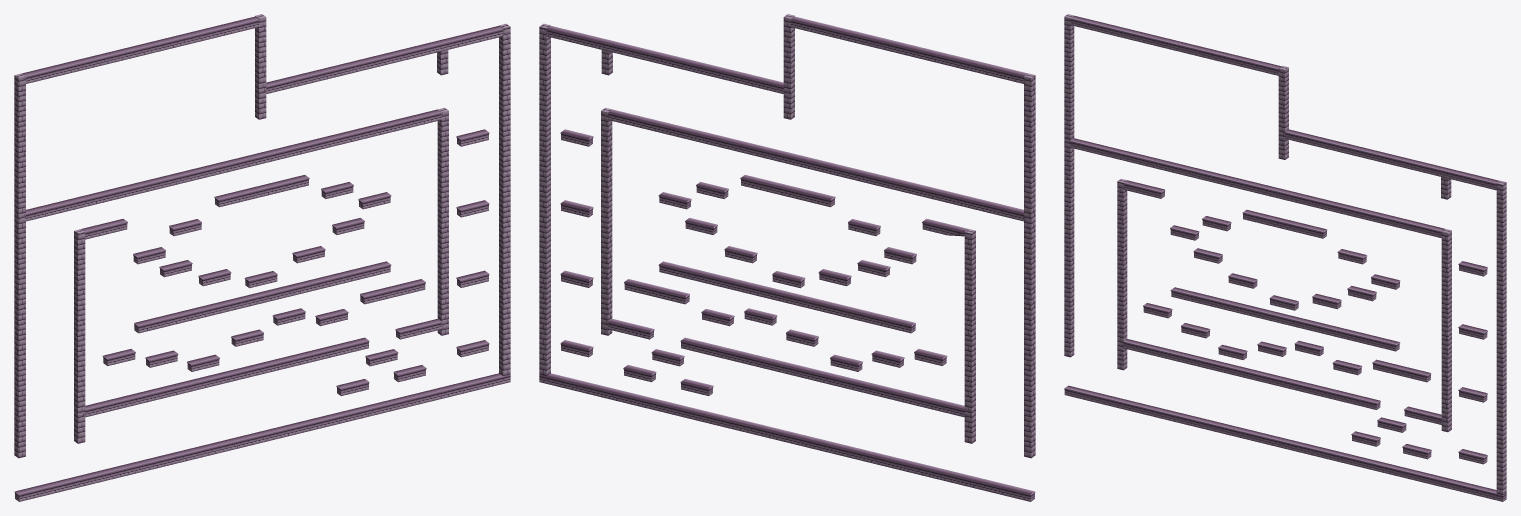
The model's file is GlempoMap1.fbx.
The picture shows the model from 3 angles, left to right: view 1: azimuth 30°, elevation 25°; view 2: azimuth 150°, elevation 25°; view 3: azimuth 330°, elevation 25°; orthographic projection. The views are drawn at different scales.
Parts seen in each view (by area): view 1: Map; view 2: Map; view 3: Map.
Part boxes in pixels (left/top/right/bottom): Map: left=14, top=14, right=510, bottom=501; Map: left=539, top=14, right=1035, bottom=501; Map: left=1064, top=14, right=1506, bottom=501.
Bounding box in the file's own units: 68.01 × 56.11 × 1.
